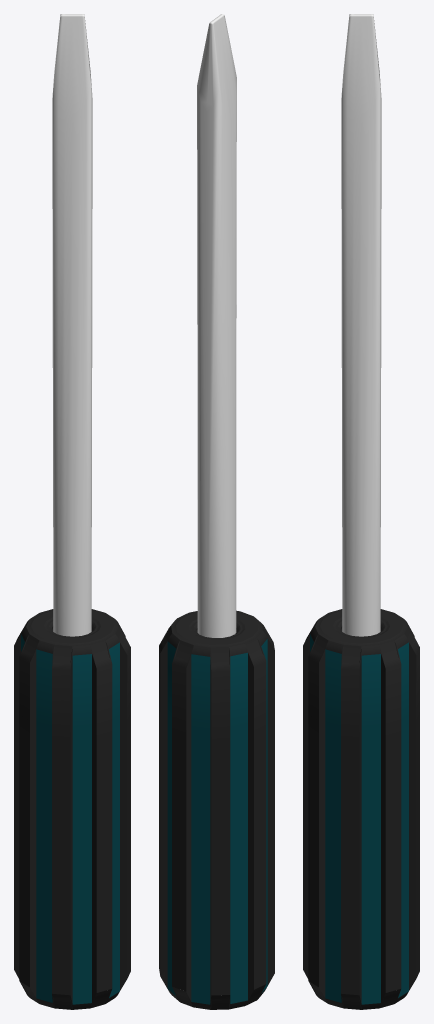
Rendered from screwdriver.FBX.
The picture shows the model from 3 angles, left to right: view 1: azimuth 90°, elevation 25°; view 2: azimuth 150°, elevation 25°; view 3: azimuth 270°, elevation 25°; orthographic projection.
Visible parts, largest first — view 1: Cylinder001; view 2: Cylinder001; view 3: Cylinder001.
Boxes of the visible parts, box(x1,y1,x2,y2) form: Cylinder001: box(14, 14, 130, 1009); Cylinder001: box(159, 14, 274, 1009); Cylinder001: box(303, 14, 419, 1009).
Bounding box in the file's own units: 159 × 1482 × 159.
